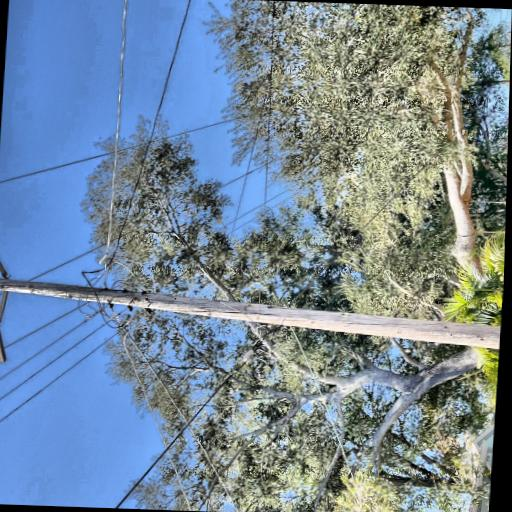pole: (0, 70, 114, 506)
